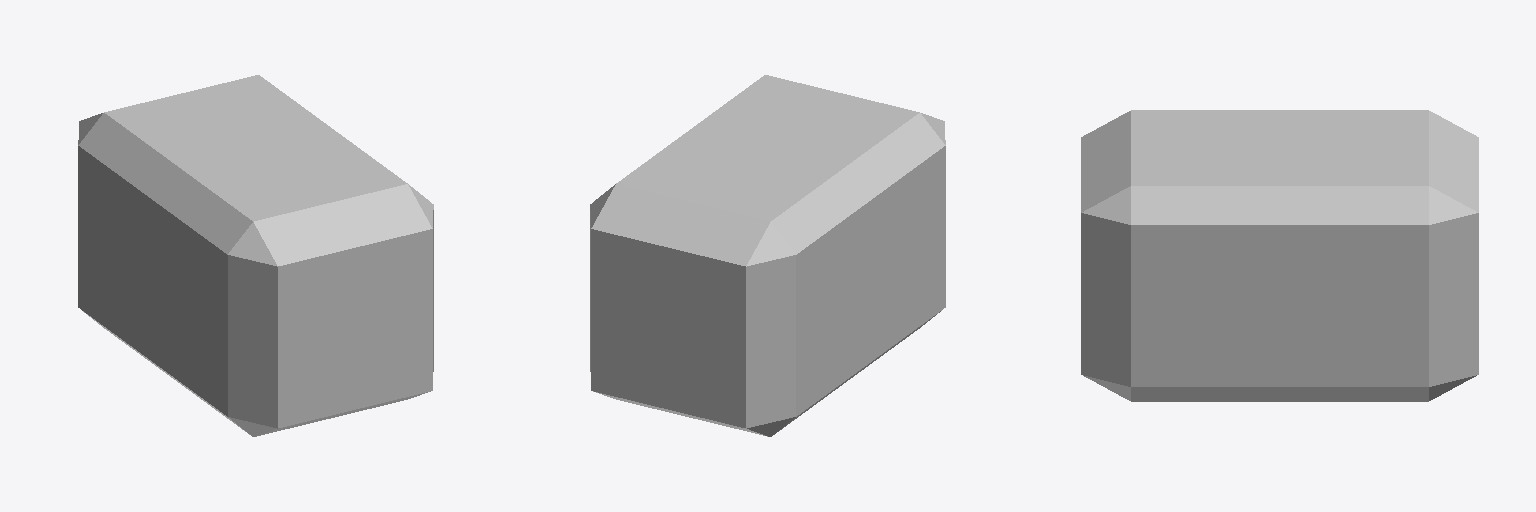
Rendered from Medipack.obj.
3 renders of one model, left to right at view 1: azimuth 30°, elevation 25°; view 2: azimuth 150°, elevation 25°; view 3: azimuth 270°, elevation 25°, orthographic.
Parts seen in each view (by area): view 1: Cube; view 2: Cube; view 3: Cube.
Part boxes in pixels (x1,y1,x2,y2): Cube: (78,75,433,436); Cube: (590,75,945,436); Cube: (1081,110,1478,401).
Bounding box in the file's own units: 0.6194 × 0.6194 × 1.03.